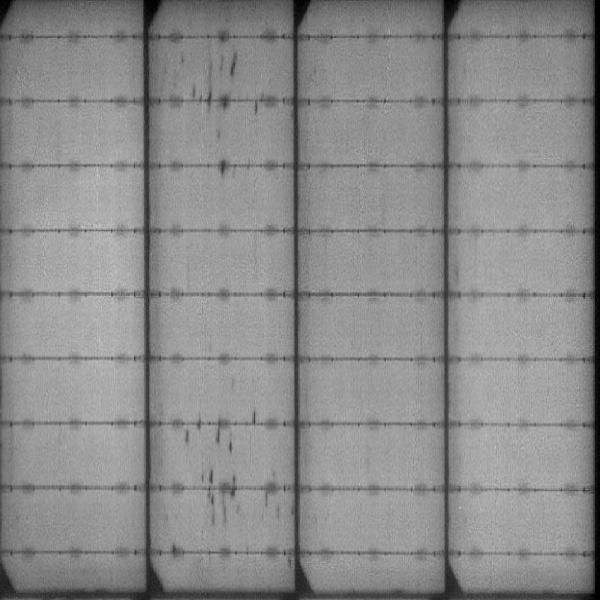scratch: (175, 43, 249, 92), (197, 468, 243, 524), (185, 425, 237, 453)
